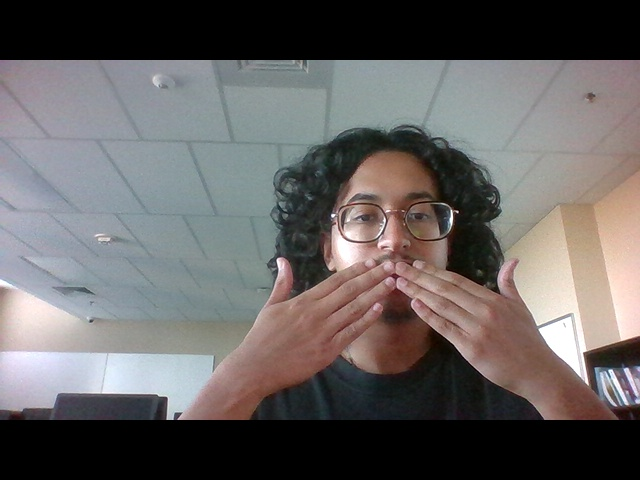thanks: (233, 239, 583, 393)
